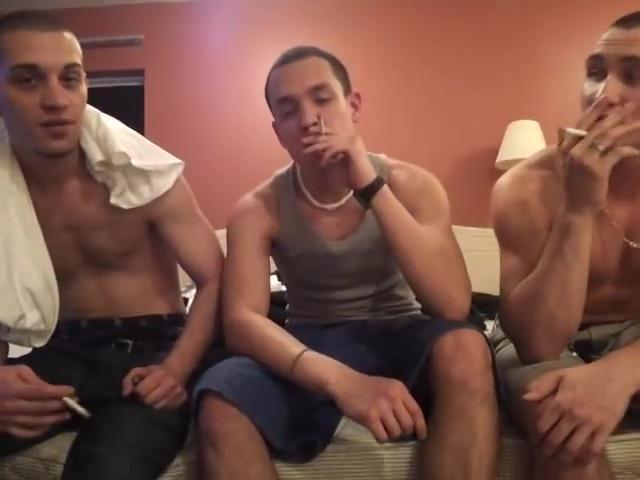cigarette: (61, 395, 94, 422), (560, 123, 594, 138), (316, 112, 330, 139)
